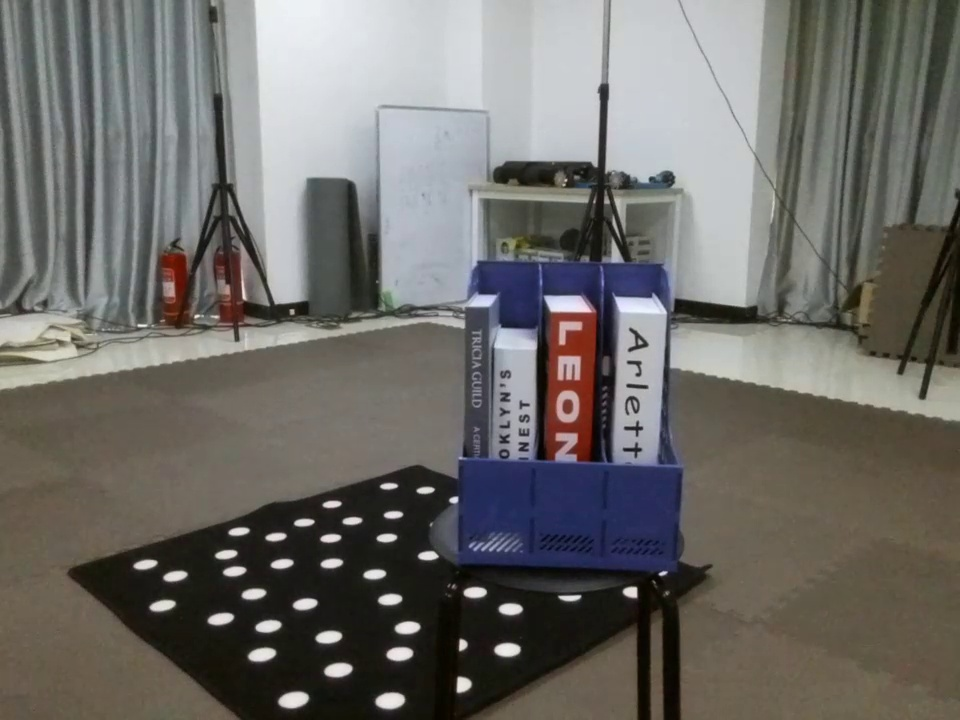files: (446, 250, 703, 577)
